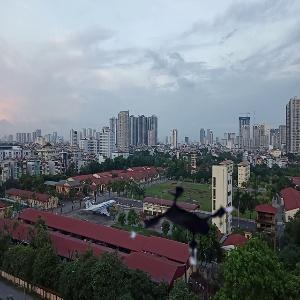drone: (123, 168, 251, 296)
